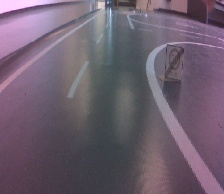zone 30 stop sign: (163, 41, 185, 82)
